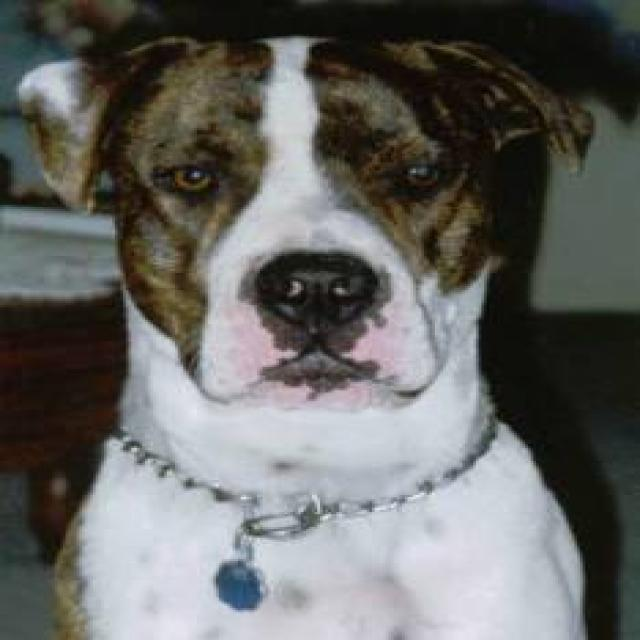dog-american_pit_bull_terrier: (3, 28, 610, 636)
